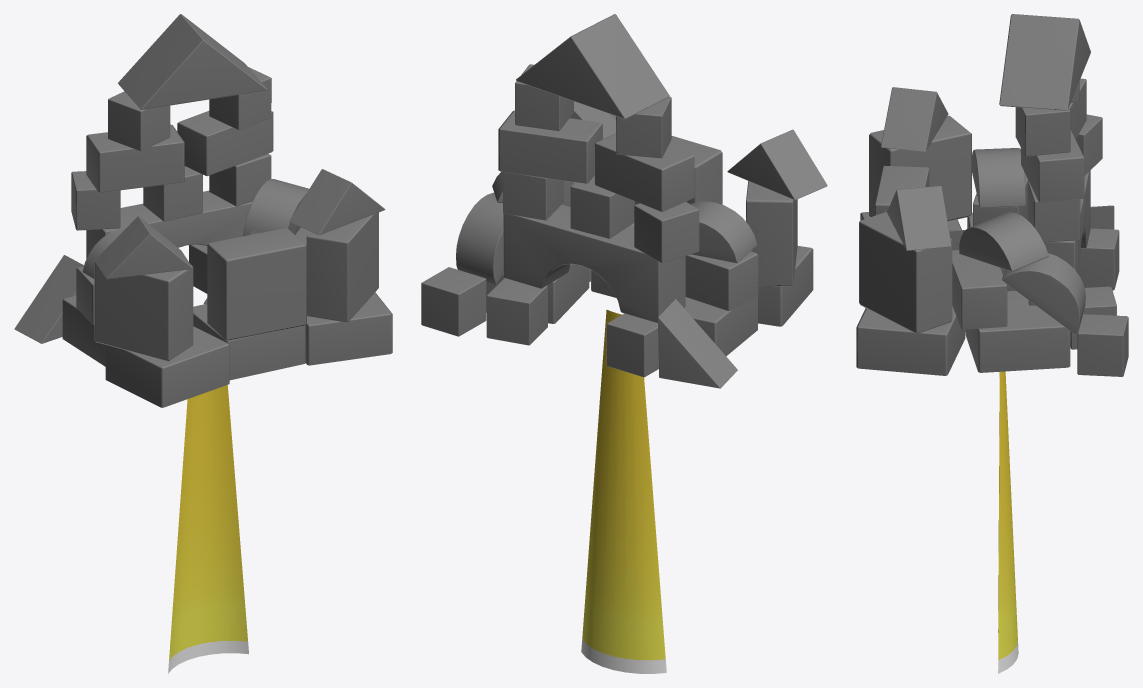
Rendered from Castlelight.fbx.
3 views of the same model, side by side, from view 1: azimuth 30°, elevation 25°; view 2: azimuth 150°, elevation 25°; view 3: azimuth 270°, elevation 25° (orthographic). The views are drawn at different scales.
Parts seen in each view (by area): view 1: Castlelight, pCube33, pCube26, pCube34, pCube19, pCube16, pCube18, pCube17, pCube22, pCube3, pCube28, pCube31 (+12 smaller); view 2: Castlelight, pCube3, pCube34, pCube22, pCube18, pCube30, pCube26, pCube28, pCube29, pCube8, pCube20, polySurface3 (+12 smaller); view 3: pCube19, pCube34, pCube13, pCube26, pCube17, Castlelight, polySurface3, polySurface4, pCube25, pCube28, pCube27, pCube29 (+12 smaller).
Part boxes in pixels (<box>): Castlelight: <box>168,385,248,673</box>; pCube33: <box>207,228,306,340</box>; pCube26: <box>94,262,193,361</box>; pCube34: <box>118,14,267,109</box>; pCube19: <box>306,212,378,322</box>; pCube16: <box>105,326,229,407</box>; pCube18: <box>86,124,184,192</box>; pCube17: <box>305,292,392,365</box>; pCube22: <box>177,111,273,176</box>; pCube3: <box>86,190,252,258</box>; pCube28: <box>94,216,192,279</box>; pCube31: <box>193,304,305,380</box>; Castlelight: <box>581,310,666,673</box>; pCube3: <box>503,204,685,323</box>; pCube34: <box>516,14,669,119</box>; pCube22: <box>498,110,602,183</box>; pCube18: <box>594,133,694,211</box>; pCube30: <box>658,299,737,388</box>; pCube26: <box>746,181,797,286</box>; pCube28: <box>727,129,827,200</box>; pCube29: <box>421,267,486,336</box>; pCube8: <box>685,251,758,311</box>; pCube20: <box>486,278,547,345</box>; polySurface3: <box>456,192,503,284</box>; pCube19: <box>859,211,952,333</box>; pCube34: <box>999,14,1090,110</box>; pCube13: <box>965,291,1070,372</box>; pCube26: <box>869,115,971,221</box>; pCube17: <box>856,306,965,375</box>; Castlelight: <box>998,371,1018,673</box>; polySurface3: <box>1002,253,1085,333</box>; polySurface4: <box>959,212,1048,271</box>; pCube25: <box>952,250,1007,329</box>; pCube28: <box>881,87,948,152</box>; pCube27: <box>887,185,951,250</box>; pCube29: <box>1077,314,1128,376</box>.
Bounding box in the file's own units: 310 × 654 × 252.
